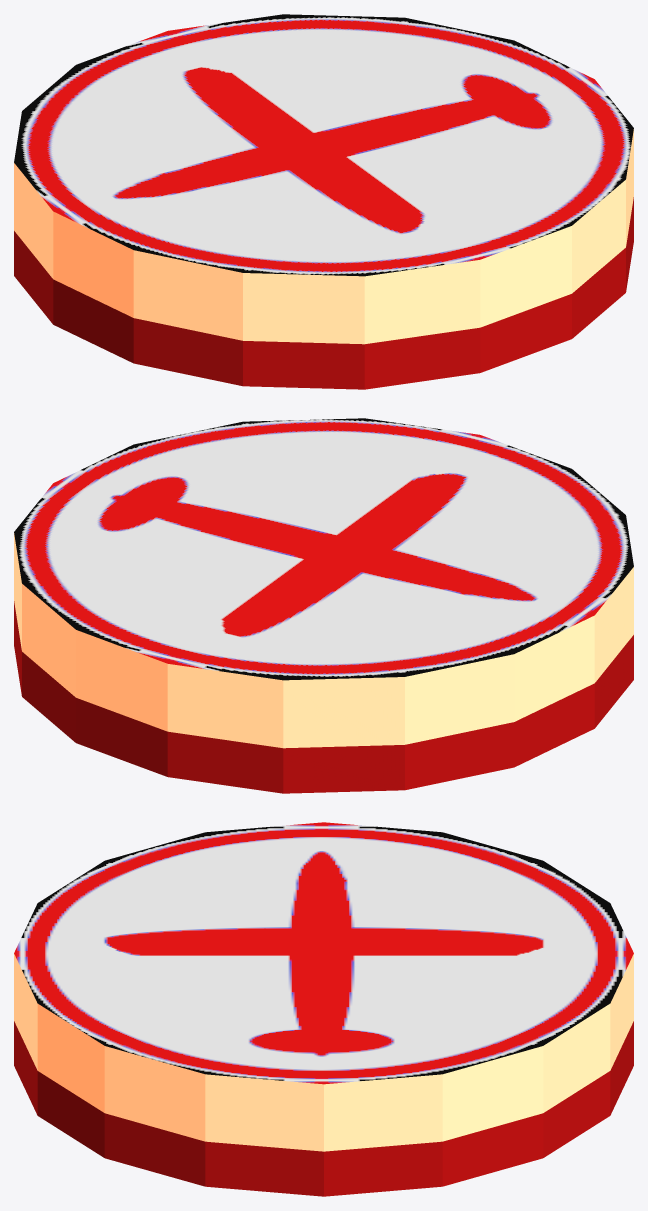
File: piece_red.glb
The picture shows the model from 3 angles, top to bottom: view 1: azimuth 30°, elevation 25°; view 2: azimuth 150°, elevation 25°; view 3: azimuth 270°, elevation 25°; orthographic projection.
Parts seen in each view (by area): view 1: Cylinder; view 2: Cylinder; view 3: Cylinder.
Part boxes in pixels (box(x1,y1,x2,y2)): Cylinder: box(14, 14, 633, 389); Cylinder: box(14, 418, 633, 793); Cylinder: box(14, 822, 633, 1196).
Size of the model in its own units: 0.5 by 0.1 by 0.5.
Materials: 2 (1 with a texture image).
